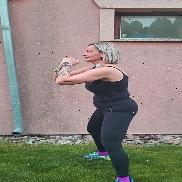squats: (45, 31, 150, 182)
